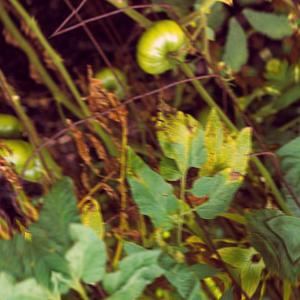Tomato Early blight leaf: (109, 141, 192, 240), (136, 91, 218, 183), (181, 158, 255, 223)
